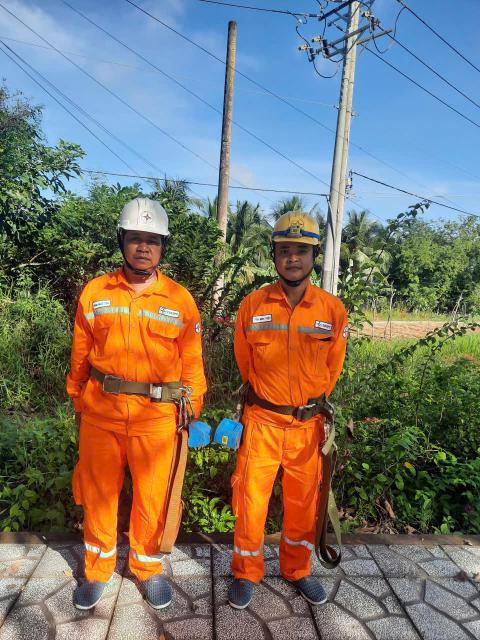harness: (76, 364, 201, 418), (233, 376, 352, 430)
helmet: (108, 192, 186, 250), (257, 196, 329, 257)
shoes: (132, 561, 193, 628), (209, 558, 263, 615), (64, 558, 117, 614), (280, 554, 332, 609)
